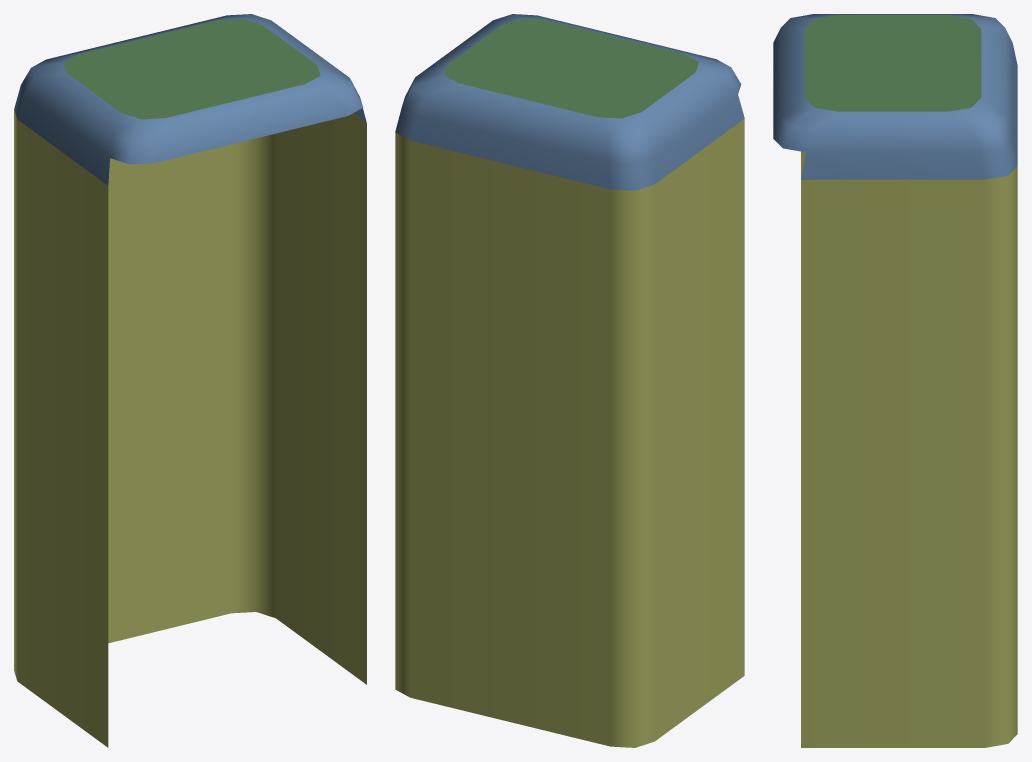
Rendered from Septima_Plat.fbx.
3 renders of one model, left to right at view 1: azimuth 30°, elevation 25°; view 2: azimuth 150°, elevation 25°; view 3: azimuth 270°, elevation 25°, orthographic.
Parts seen in each view (by area): view 1: Septima_Plat, Wall5, Ground5; view 2: Septima_Plat, Wall5, Ground5; view 3: Septima_Plat, Wall5, Ground5.
Part boxes in pixels (<box>): Septima_Plat: <box>14,109,366,747</box>; Wall5: <box>14,14,366,185</box>; Ground5: <box>63,19,320,119</box>; Septima_Plat: <box>395,119,744,747</box>; Wall5: <box>395,14,744,190</box>; Ground5: <box>444,18,698,118</box>; Septima_Plat: <box>801,151,1017,747</box>; Wall5: <box>773,14,1017,179</box>; Ground5: <box>804,15,981,111</box>.
Bounding box in the file's own units: 5835 × 13244 × 4729.
